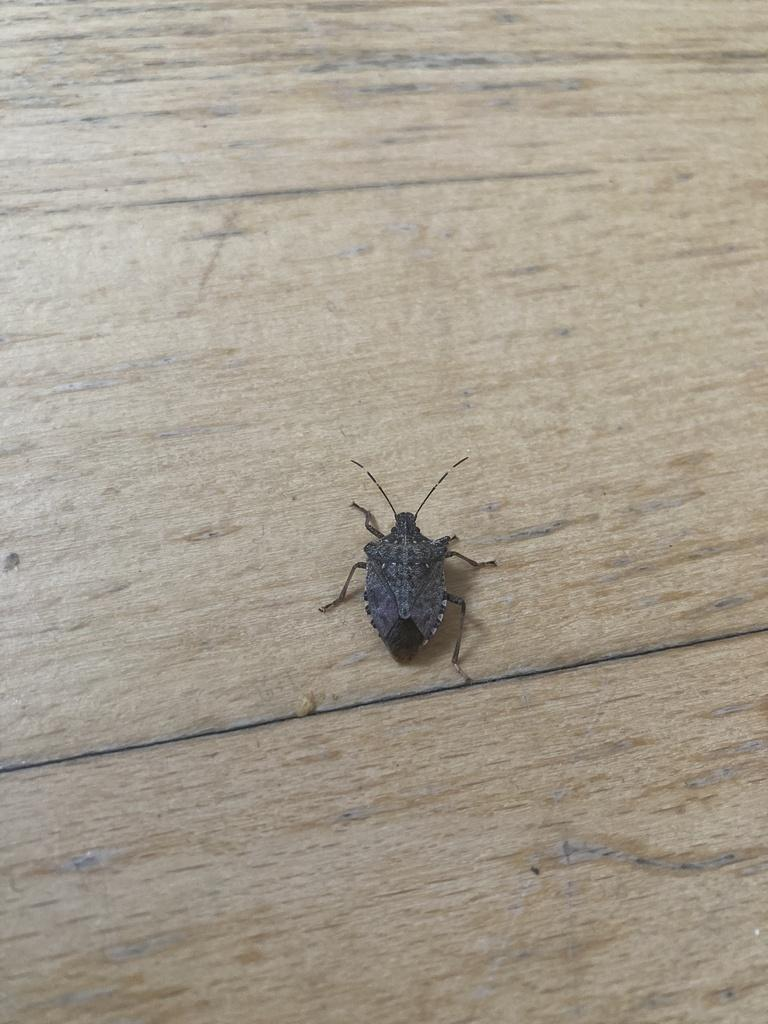stink_bugs: (298, 435, 524, 693)
